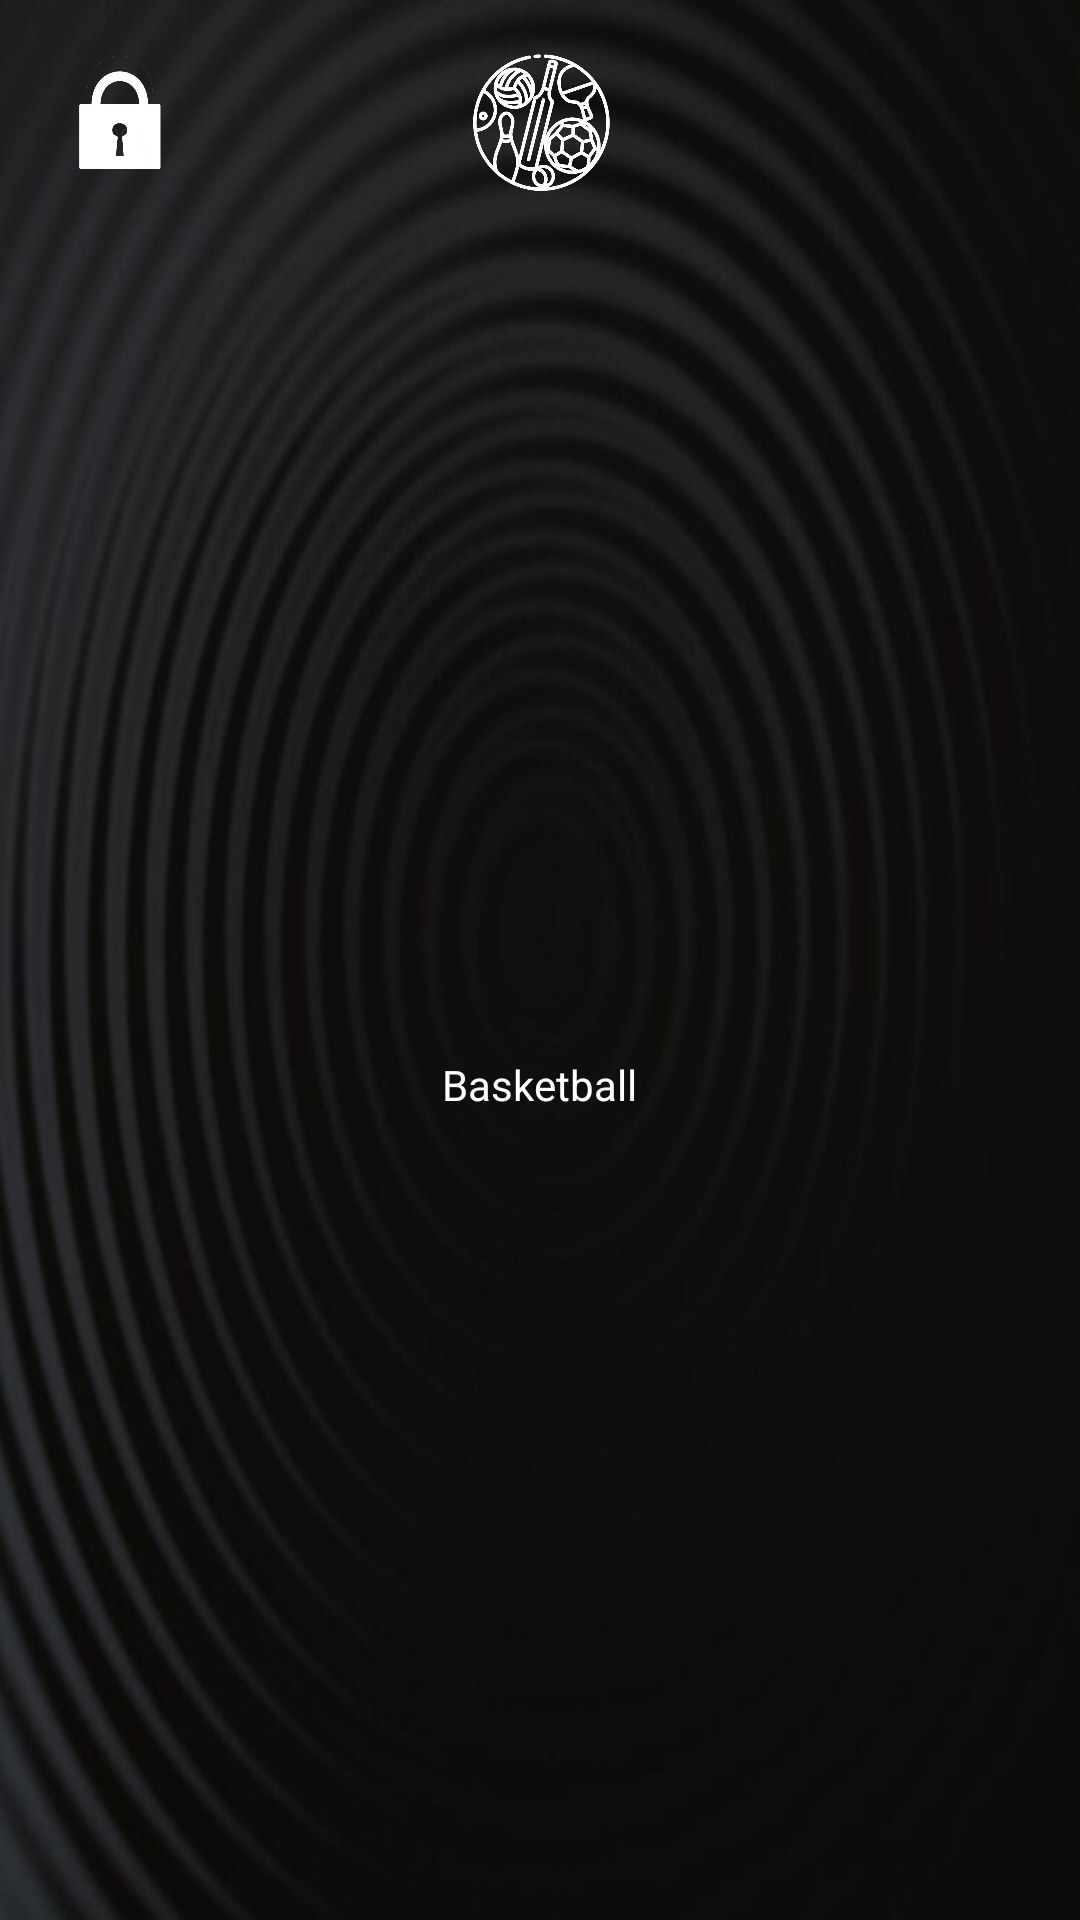

Locate icon controls on the screen. Image size 1080x1920, boxes as (x1, y1, x2, y2).
lock: (79, 56, 167, 169)
